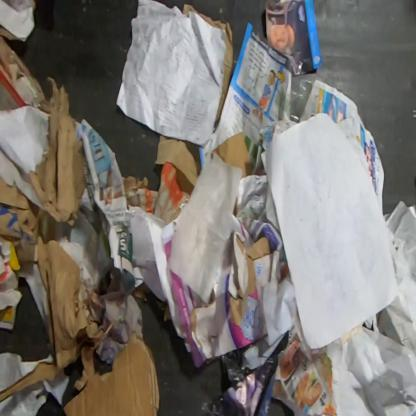cardboard: (0, 36, 88, 244), (190, 229, 281, 364), (61, 331, 161, 415), (211, 130, 254, 178)
soft_plastic: (290, 78, 314, 122)
